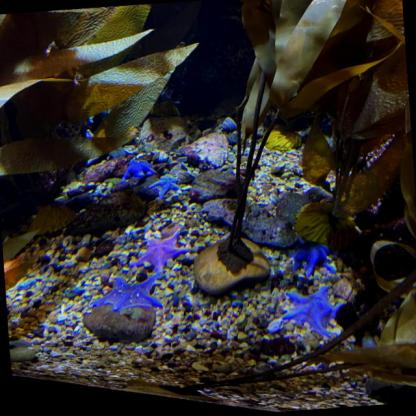starfish: (279, 282, 344, 343), (89, 271, 168, 315), (131, 228, 192, 276), (290, 234, 340, 280), (121, 155, 159, 184), (150, 173, 184, 198)
